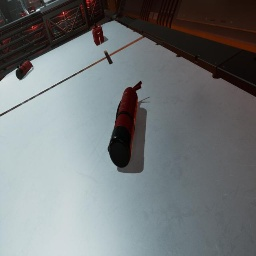FireExtinguisher ]: (108, 81, 142, 168), (16, 57, 34, 80), (30, 62, 31, 64)
FirstAidBox ,: (92, 22, 104, 46), (28, 6, 36, 14), (20, 11, 28, 18)
SafetySwitchPanel ,: (7, 0, 13, 2)
